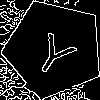Y: (29, 24, 83, 80)
